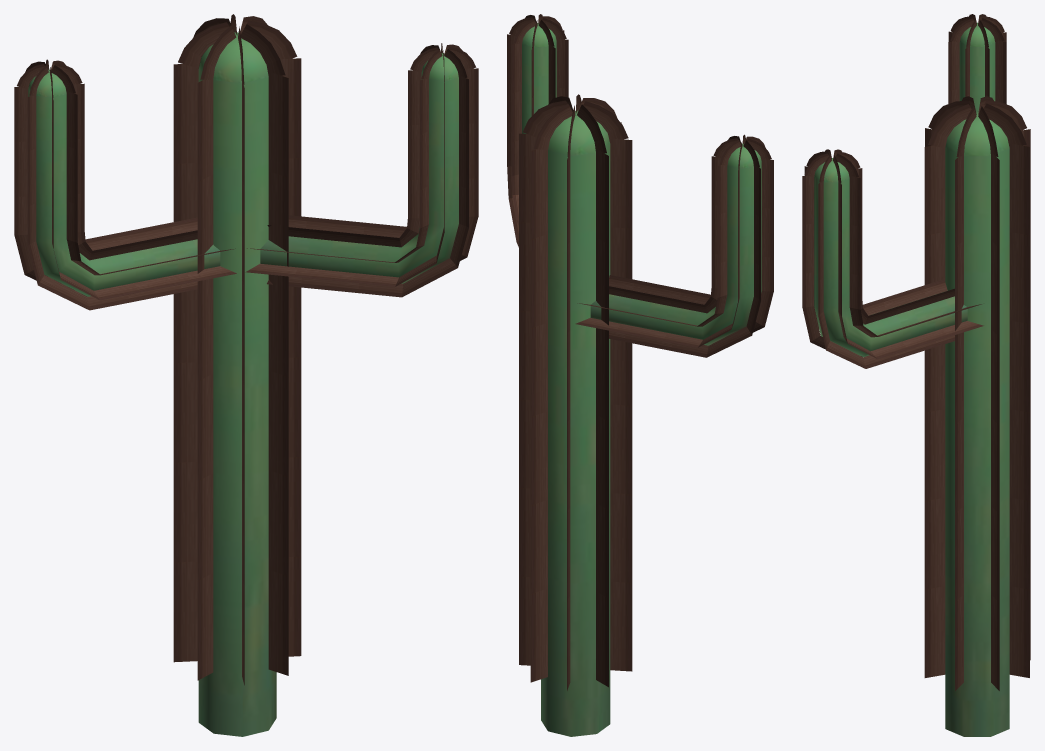
File: Canyon_Cactus_Tall_1.glb
3 renders of one model, left to right at view 1: azimuth 30°, elevation 25°; view 2: azimuth 150°, elevation 25°; view 3: azimuth 270°, elevation 25°, orthographic. The views are drawn at different scales.
Visible parts, largest first — view 1: Canyon_Cactus_Tall_1_0; view 2: Canyon_Cactus_Tall_1_0; view 3: Canyon_Cactus_Tall_1_0.
Boxes of the visible parts, x1=… form: Canyon_Cactus_Tall_1_0: x1=14, y1=14, x2=478, y2=736; Canyon_Cactus_Tall_1_0: x1=507, y1=14, x2=773, y2=736; Canyon_Cactus_Tall_1_0: x1=802, y1=14, x2=1030, y2=736.
Size of the model in its own units: 1.21 by 2.19 by 0.7249.
1 material, 1 textured.
